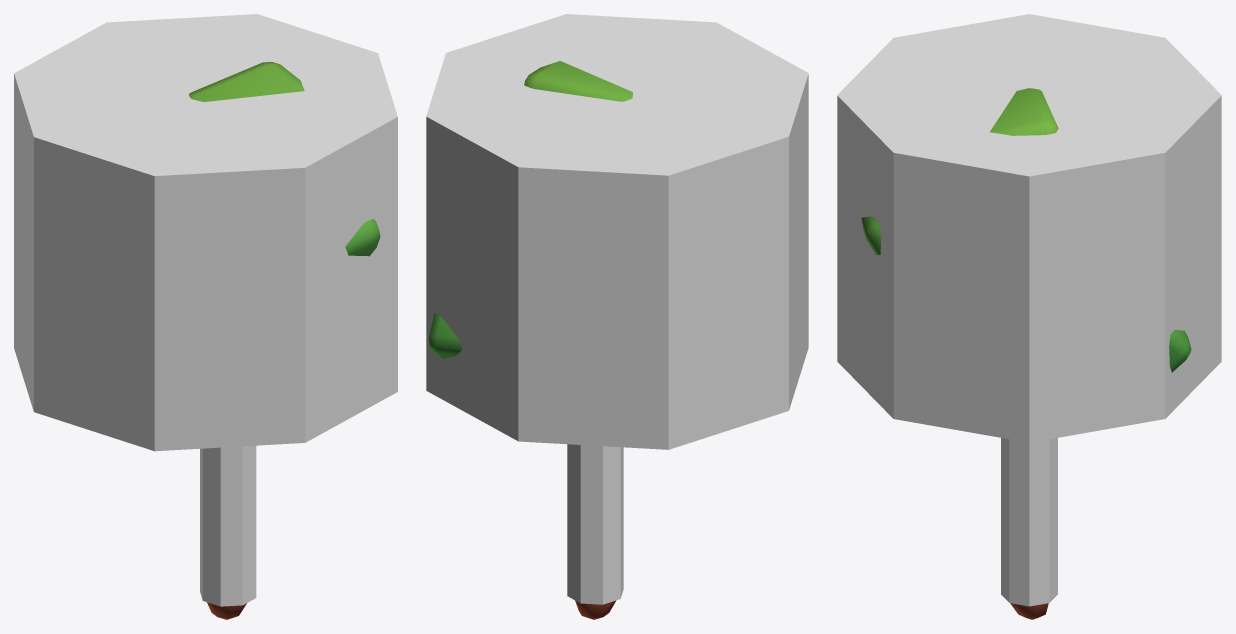
The model's file is tree_3_b.glb.
3 views of the same model, side by side, from view 1: azimuth 30°, elevation 25°; view 2: azimuth 150°, elevation 25°; view 3: azimuth 270°, elevation 25° (orthographic). The views are drawn at different scales.
Visible parts, largest first — view 1: COL_CYL_00.010, COL_CYL_00.008, Tree_2_D_Color1; view 2: COL_CYL_00.010, COL_CYL_00.008, Tree_2_D_Color1; view 3: COL_CYL_00.010, COL_CYL_00.008, Tree_2_D_Color1.
Part boxes in pixels (bbox=[...]): COL_CYL_00.010: bbox=[14, 14, 397, 451]; COL_CYL_00.008: bbox=[200, 445, 256, 606]; Tree_2_D_Color1: bbox=[189, 62, 380, 619]; COL_CYL_00.010: bbox=[426, 14, 808, 449]; COL_CYL_00.008: bbox=[567, 444, 623, 604]; Tree_2_D_Color1: bbox=[428, 61, 632, 619]; COL_CYL_00.010: bbox=[837, 14, 1221, 442]; COL_CYL_00.008: bbox=[1001, 438, 1057, 606]; Tree_2_D_Color1: bbox=[861, 88, 1191, 619].
Bounding box in the file's own units: 2.79 × 4.19 × 2.79.
Materials: 1 (1 with a texture image).
